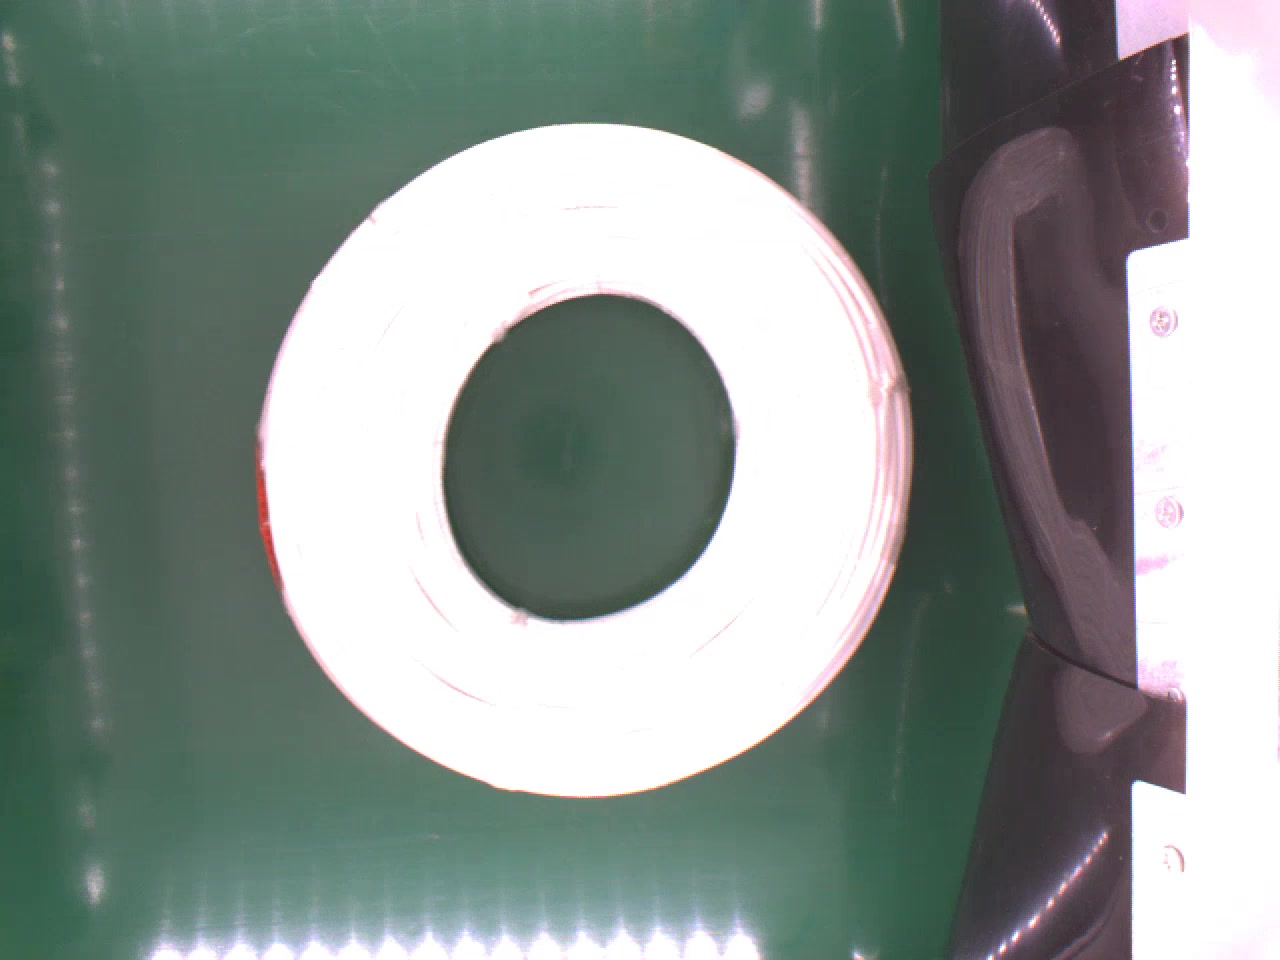white: (253, 114, 918, 800)
